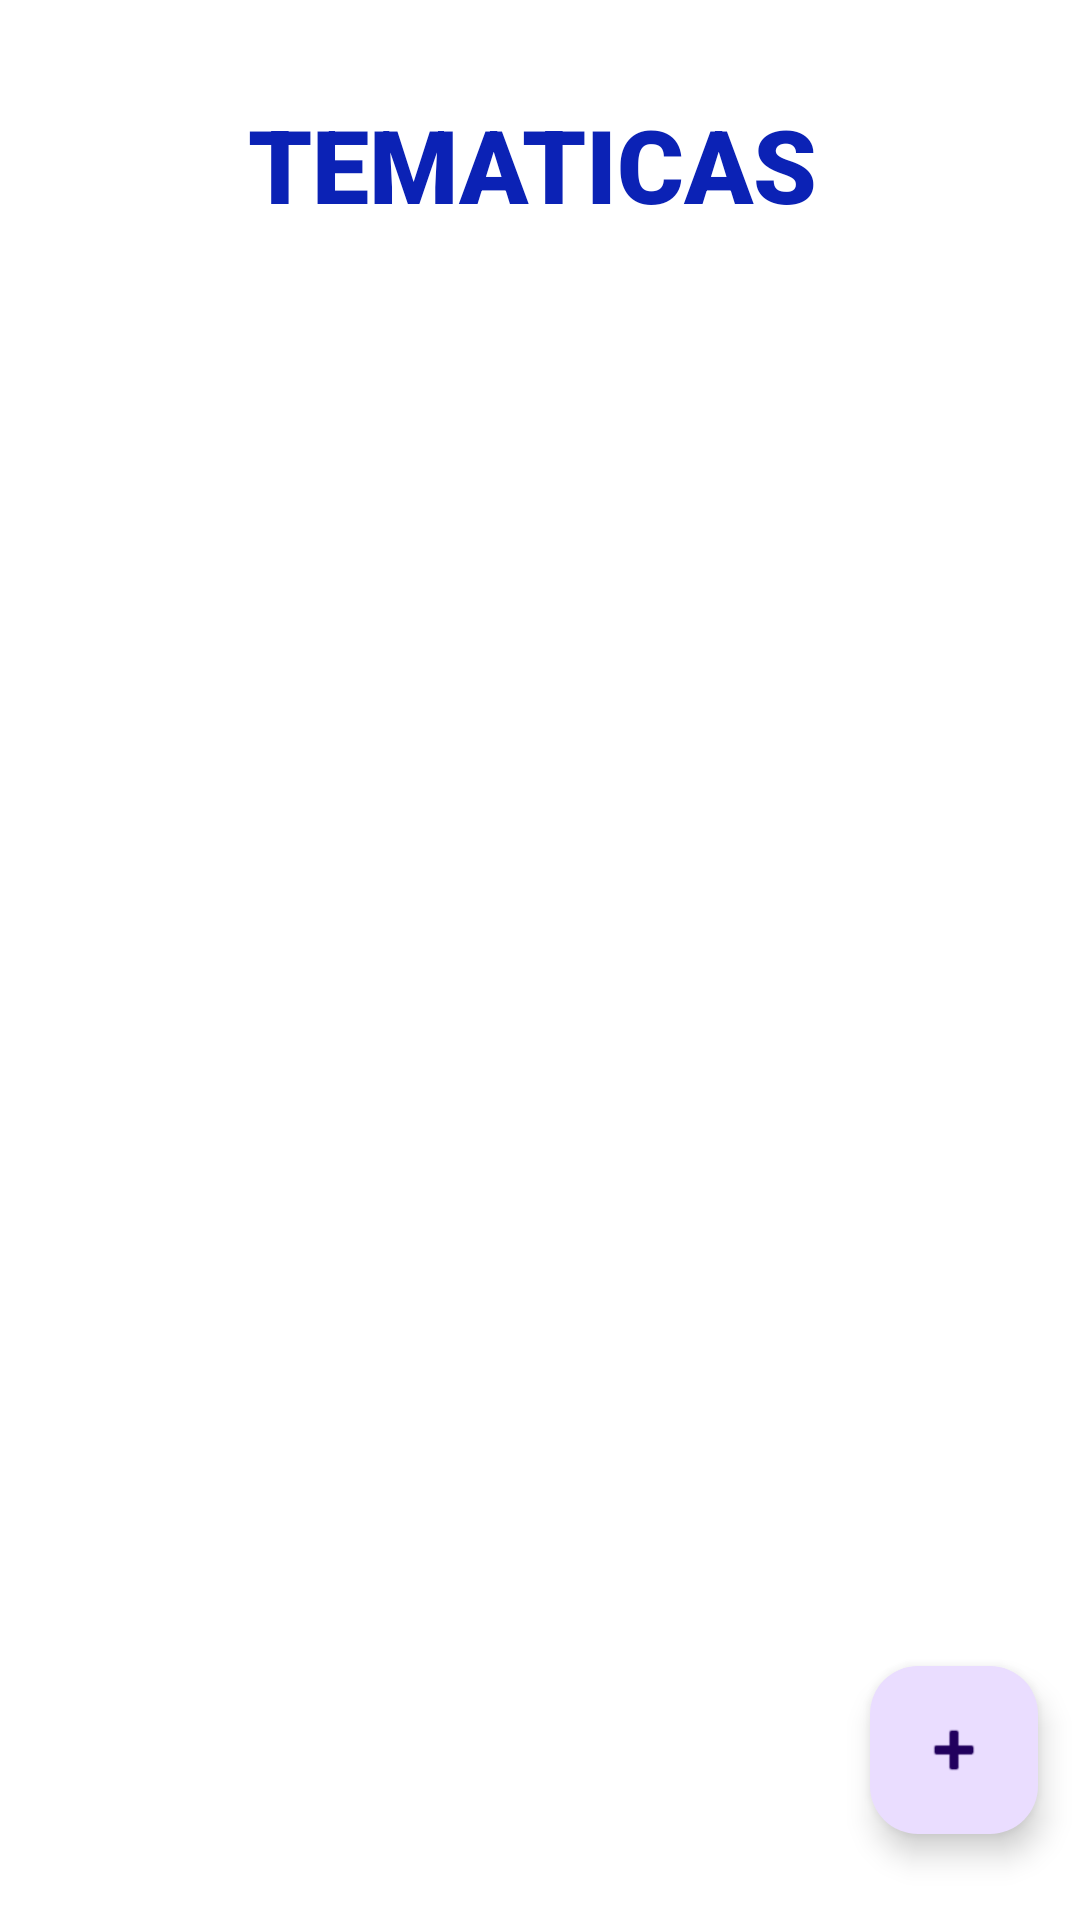

Icons on this 1080×1920 Android screen, each with the point to tap as [x,y]:
add: [954,1750]
